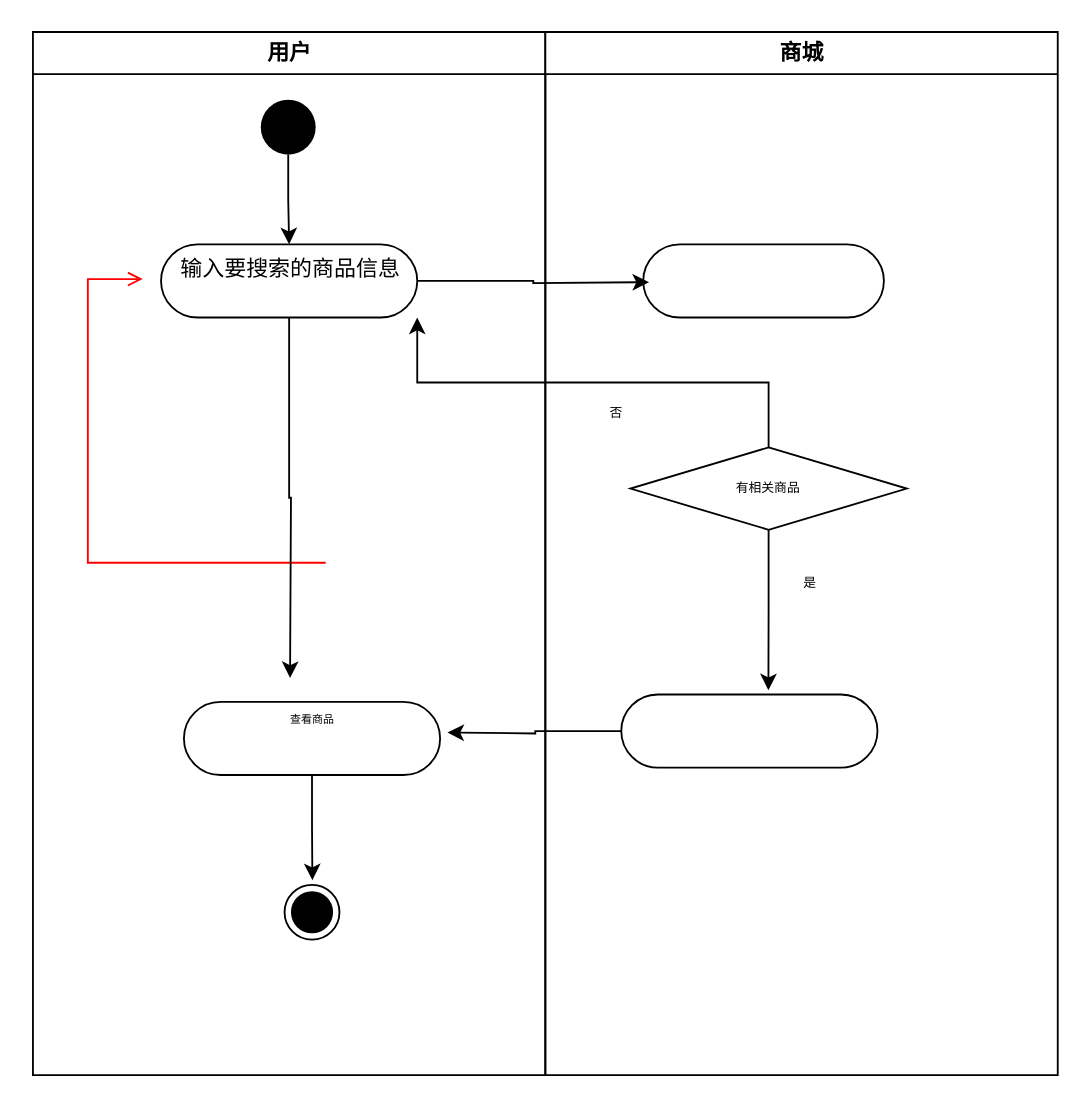
The diagram is 1089 pixels wide and 1107 high, and some of its shapes have lost their labels. The shapes that lost their labels are listed below. From the top down, each one's centre as x and y in pixels, then its label:
At (762,280): "搜索词条相关商品".
At (748,730): "显示商品信息".
